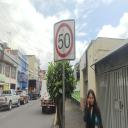speed_limit_50: (53, 16, 75, 62)
